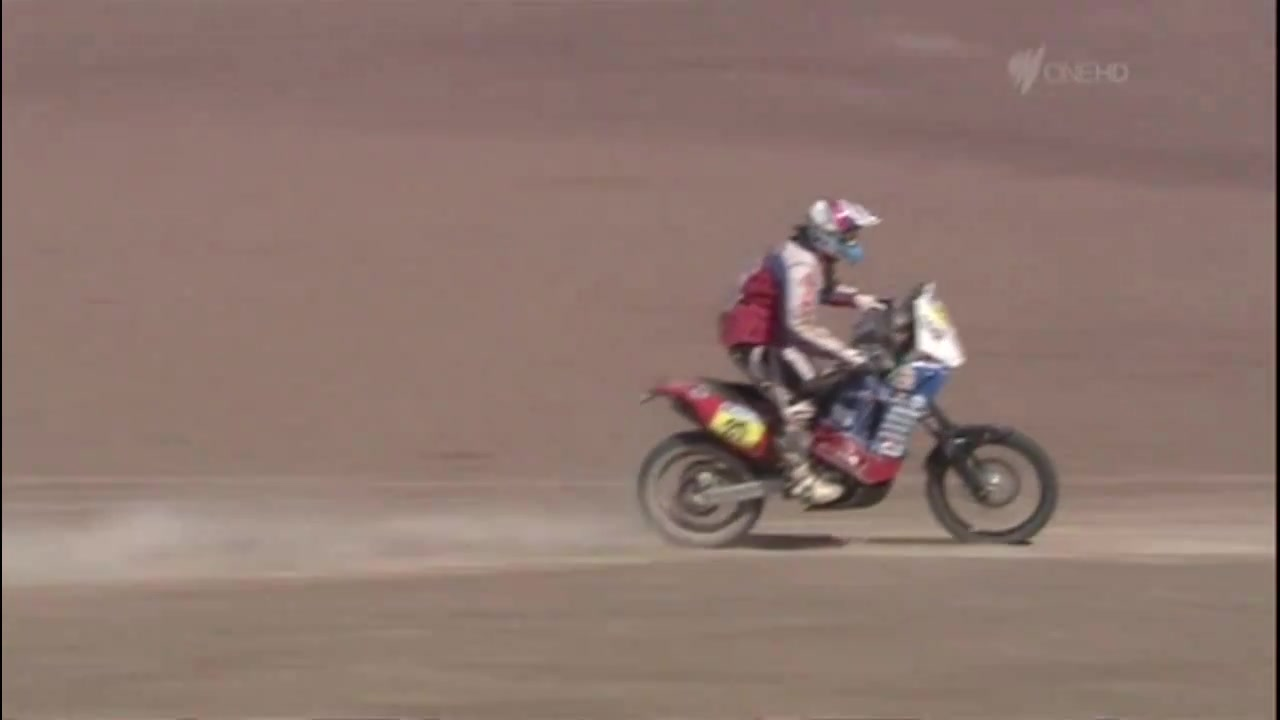motorbike: (639, 283, 1060, 551)
